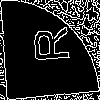R: (25, 25, 70, 65)
